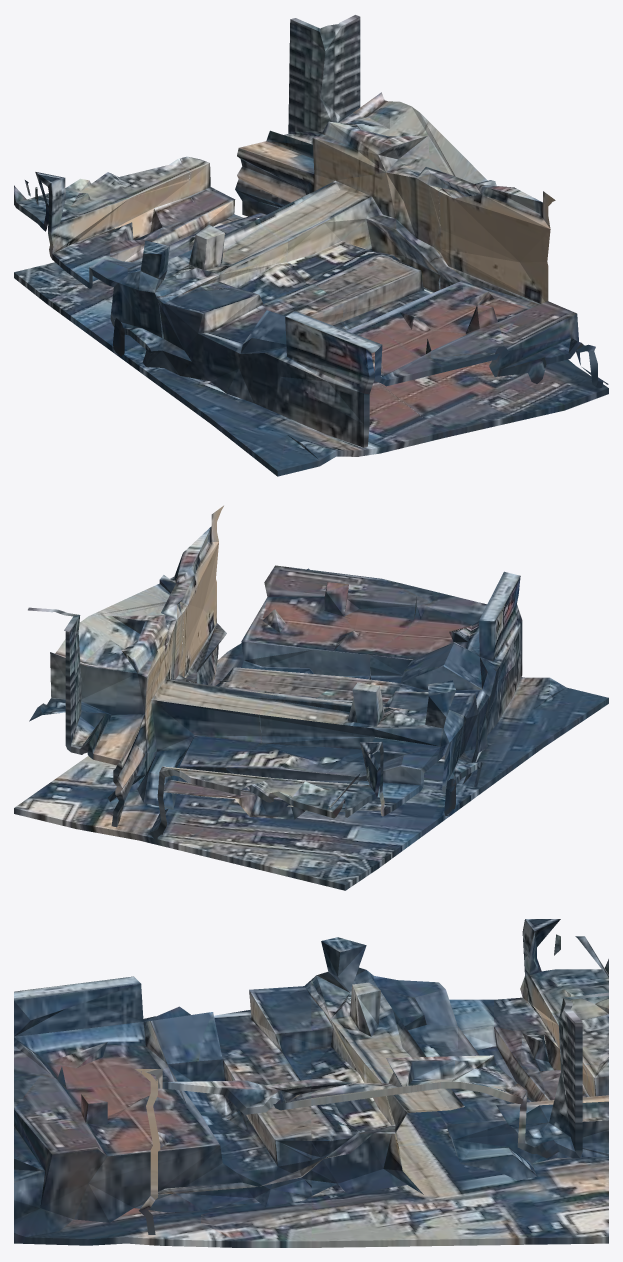
File: chunk_0_2.glb
3 renders of one model, top to bottom at view 1: azimuth 30°, elevation 25°; view 2: azimuth 150°, elevation 25°; view 3: azimuth 270°, elevation 25°, orthographic. The views are drawn at different scales.
Visible parts, largest first — view 1: hero-chunk; view 2: hero-chunk; view 3: hero-chunk.
Part boxes in pixels (bbox=[...]): hero-chunk: bbox=[14, 15, 608, 476]; hero-chunk: bbox=[14, 505, 608, 890]; hero-chunk: bbox=[14, 919, 608, 1247].
Bounding box in the file's own units: 55.42 × 32.13 × 76.32.
Materials: 2 (2 with a texture image).
